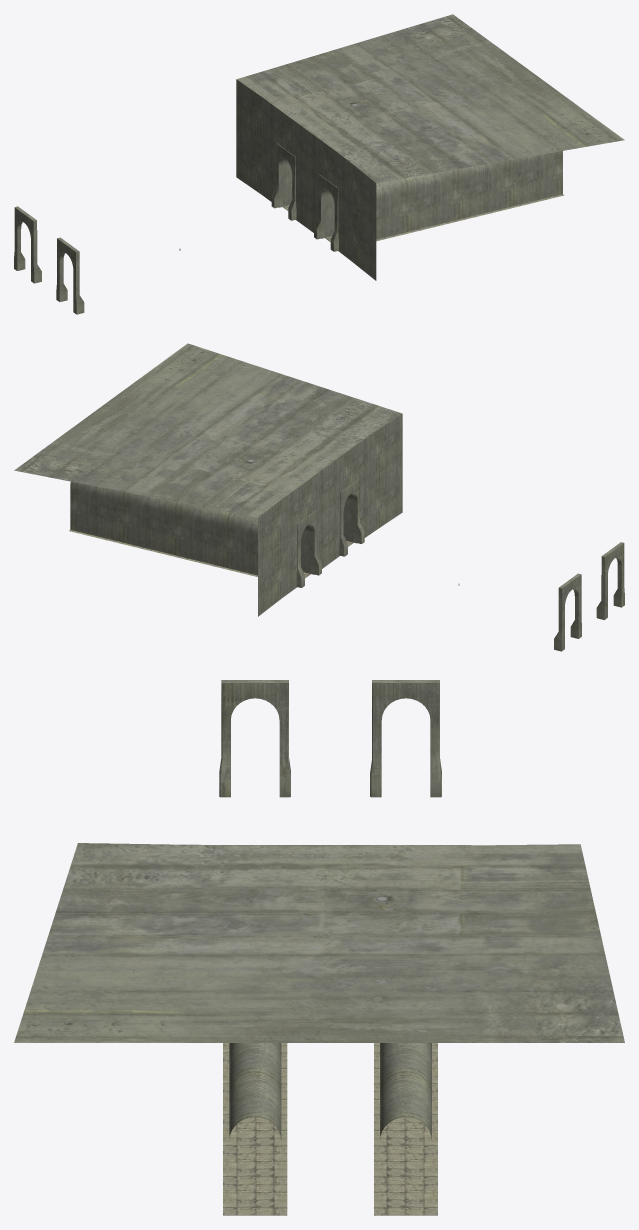
File: SM_Republic_02_00.016.fbx
3 renders of one model, top to bottom at view 1: azimuth 30°, elevation 25°; view 2: azimuth 150°, elevation 25°; view 3: azimuth 270°, elevation 25°, orthographic. The views are drawn at different scales.
Visible parts, largest first — view 1: SM_Republic_02_00.016; view 2: SM_Republic_02_00.016; view 3: SM_Republic_02_00.016.
Part boxes in pixels (x1,y1,x2,y2): SM_Republic_02_00.016: [14, 14, 624, 314]; SM_Republic_02_00.016: [14, 343, 624, 651]; SM_Republic_02_00.016: [14, 680, 624, 1215].
Size of the model in its own units: 10214 by 1951 by 6203.
